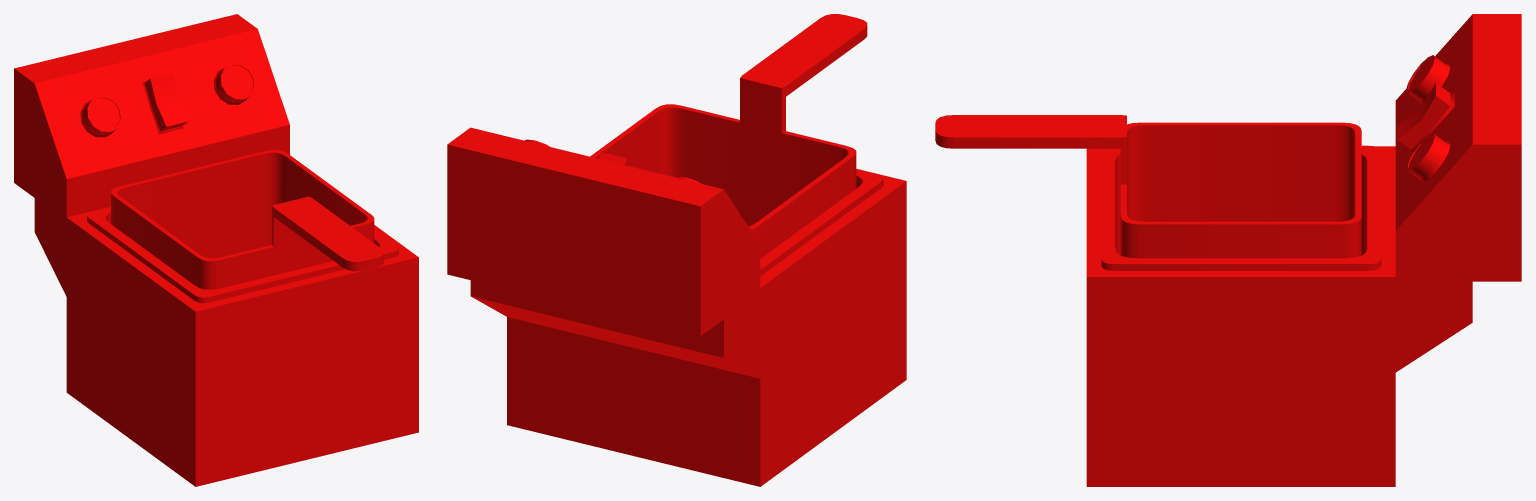
File: sm_fryer_RS.fbx
3 renders of one model, left to right at view 1: azimuth 30°, elevation 25°; view 2: azimuth 150°, elevation 25°; view 3: azimuth 270°, elevation 25°, orthographic. The views are drawn at different scales.
Visible parts, largest first — view 1: Box001; view 2: Box001; view 3: Box001.
Boxes of the visible parts, x1,y1,x2,y2 form: Box001: [14, 14, 418, 486]; Box001: [447, 14, 906, 486]; Box001: [935, 14, 1521, 486].
Size of the model in its own units: 10 by 12.23 by 18.98.
